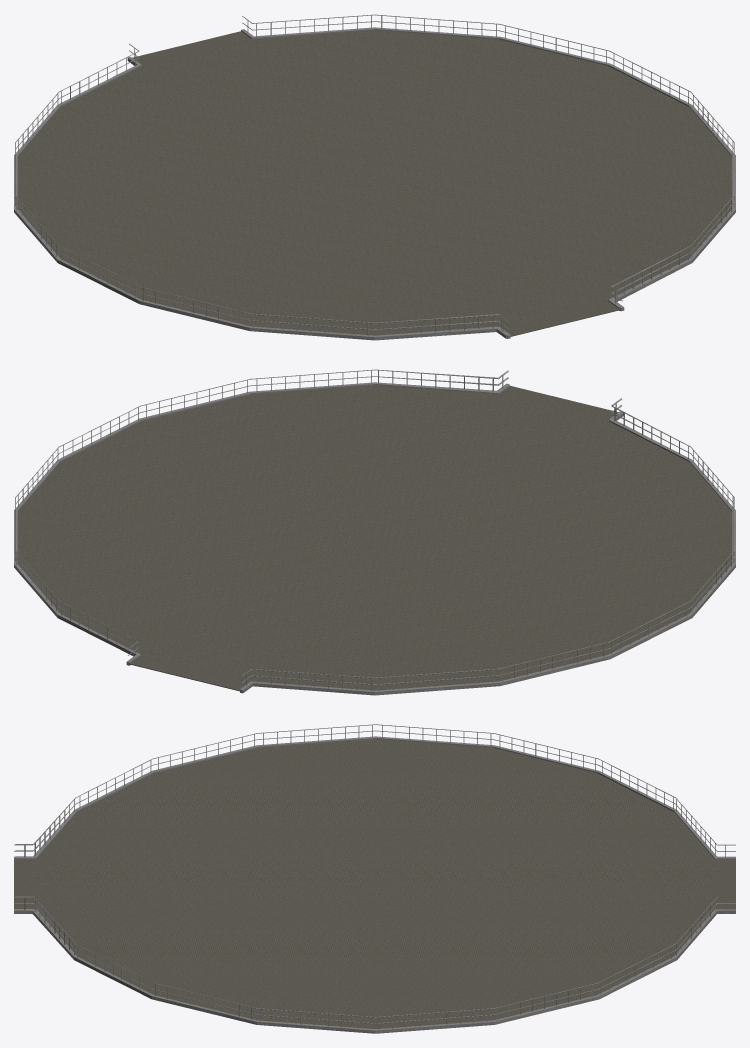
File: lab-platform-center.fbx
3 views of the same model, one above another, from view 1: azimuth 30°, elevation 25°; view 2: azimuth 150°, elevation 25°; view 3: azimuth 270°, elevation 25° (orthographic). The views are drawn at different scales.
Visible parts, largest first — view 1: floor, floor3 (×3), left9 (×2); view 2: floor, floor3 (×3), left9 (×3); view 3: floor, left9 (×4), floor3 (×2).
Part boxes in pixels (x1,y1,x2,y2): floor: (17,30,732,335); floor3 (×3): (132,31,622,337); left9 (×2): (139,299,374,340); floor: (17,385,732,690); floor3 (×3): (128,386,618,691); left9 (×3): (250,655,610,695); floor: (36,739,715,1029); left9 (×4): (152,995,599,1033); floor3 (×2): (15,859,735,909).
Bounding box in the file's own units: 10077 × 256 × 10449.
